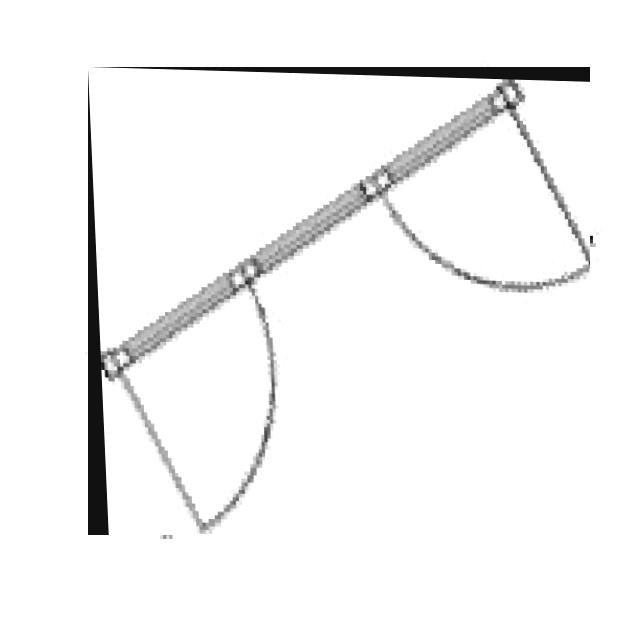door: (88, 68, 590, 536)
